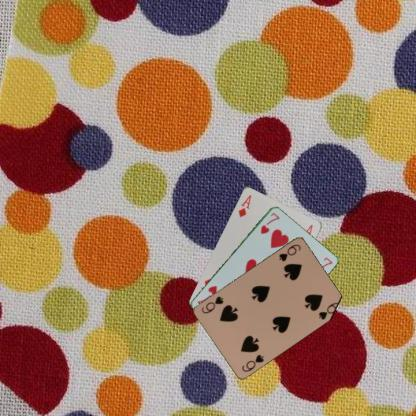6s: (276, 241, 302, 263), (239, 352, 265, 374)
7h: (258, 210, 280, 235)
Ad: (236, 192, 252, 218)
